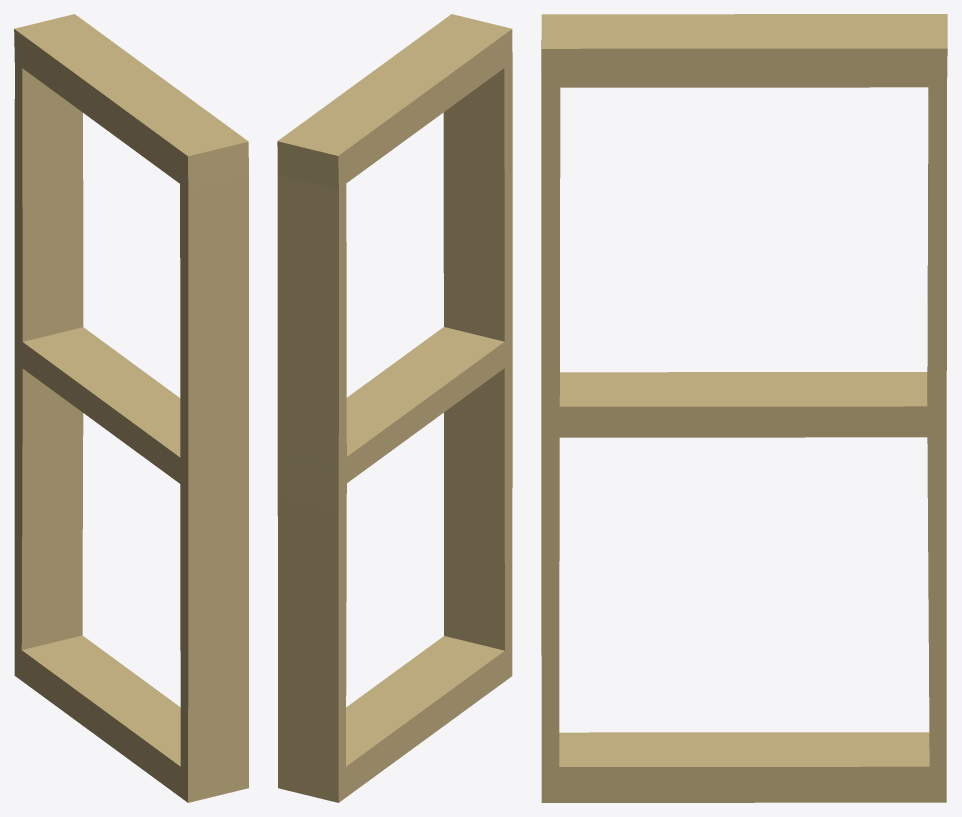
Rendered from window small.fbx.
3 views of the same model, side by side, from view 1: azimuth 30°, elevation 25°; view 2: azimuth 150°, elevation 25°; view 3: azimuth 270°, elevation 25° (orthographic). The views are drawn at different scales.
Parts seen in each view (by area): view 1: pCube8; view 2: pCube8; view 3: pCube8.
Part boxes in pixels (box(x1,y1,x2,y2)): pCube8: box(14, 14, 248, 802); pCube8: box(277, 14, 512, 802); pCube8: box(541, 14, 947, 802).
Size of the model in its own units: 5.5 by 55.97 by 27.31.
